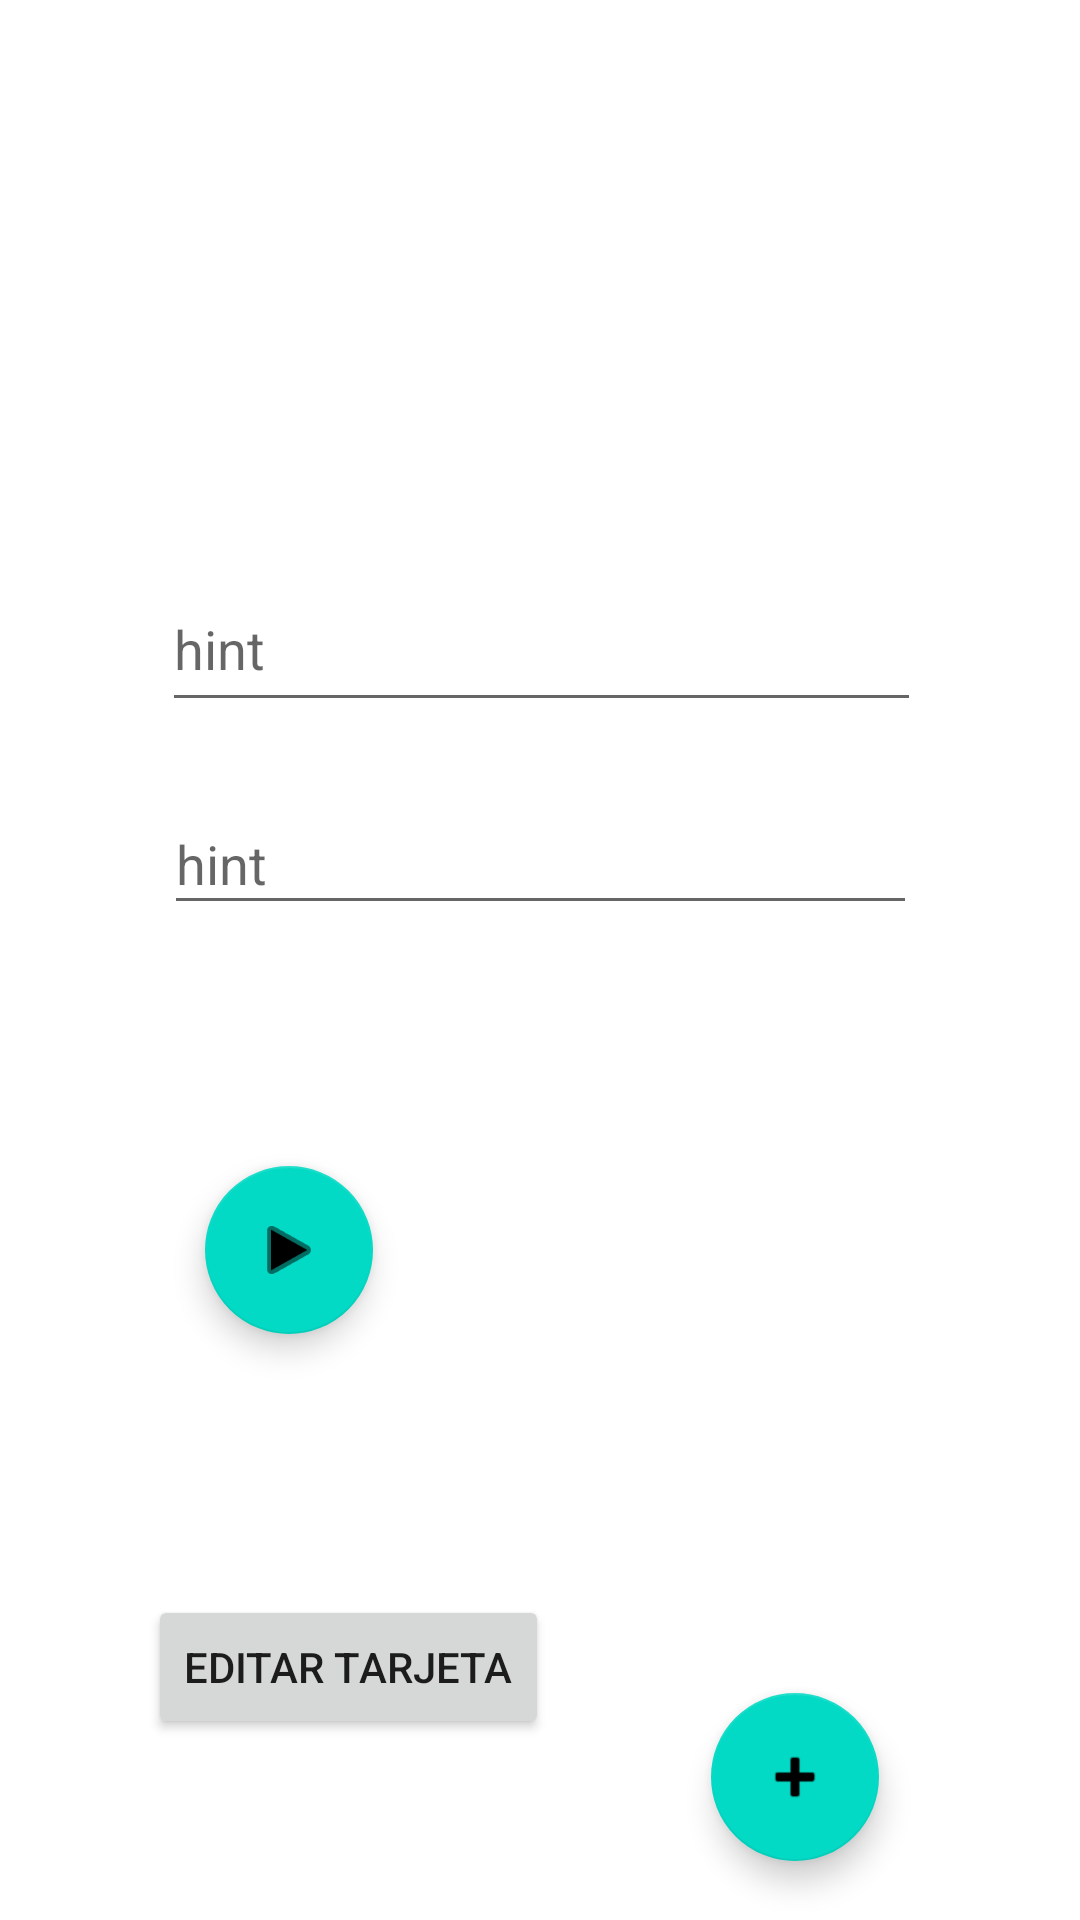

Screen size 1080w x 1920h. Icon name, then its center in pixels as (x,y):
add: (795,1777)
play: (289,1250)
